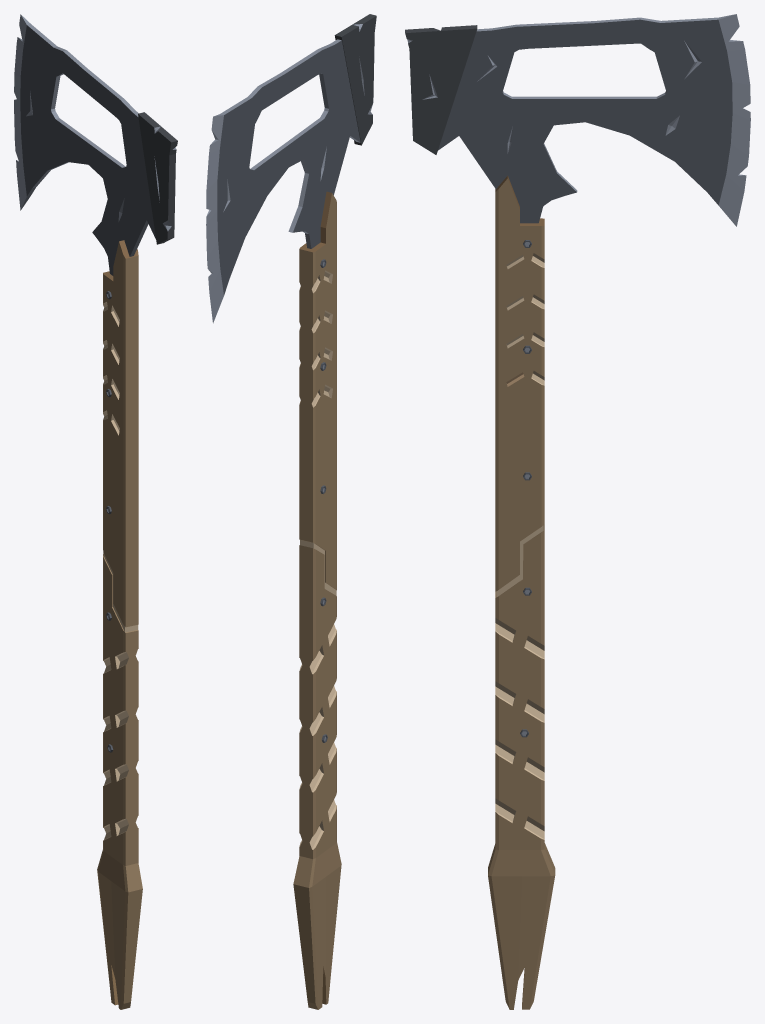
The model's file is tomahawk.glb.
3 views of the same model, side by side, from view 1: azimuth 30°, elevation 25°; view 2: azimuth 150°, elevation 25°; view 3: azimuth 270°, elevation 25° (orthographic). The views are drawn at different scales.
Parts seen in each view (by area): view 1: SM_Tomahawk; view 2: SM_Tomahawk; view 3: SM_Tomahawk.
Part boxes in pixels (<box>): SM_Tomahawk: <box>14,14,177,1009</box>; SM_Tomahawk: <box>206,14,376,1009</box>; SM_Tomahawk: <box>405,14,750,1009</box>.
Size of the model in its own units: 0.0148 by 0.7078 by 0.2232.
Materials: 1 (1 with a texture image).
